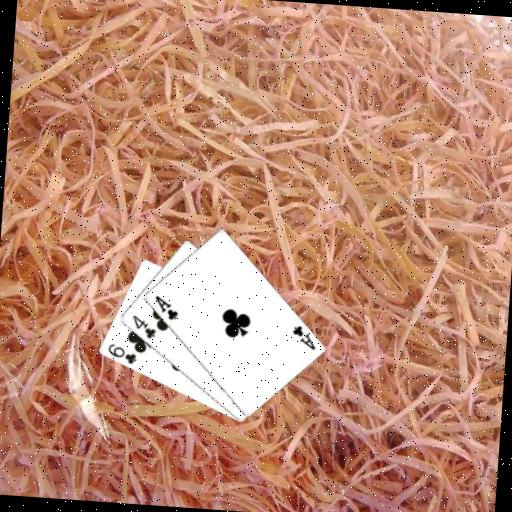4C: (128, 312, 159, 341)
6C: (104, 341, 139, 367)
AC: (288, 322, 318, 352), (150, 293, 180, 322)
